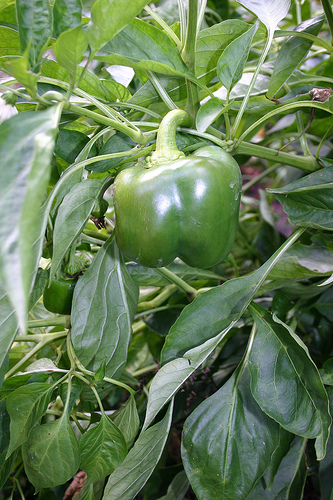capsicum: (105, 107, 247, 272)
